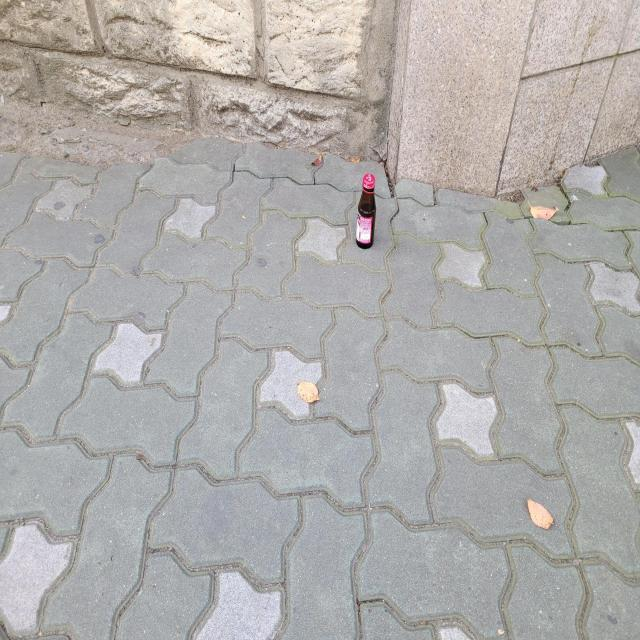glass: (356, 173, 376, 248)
